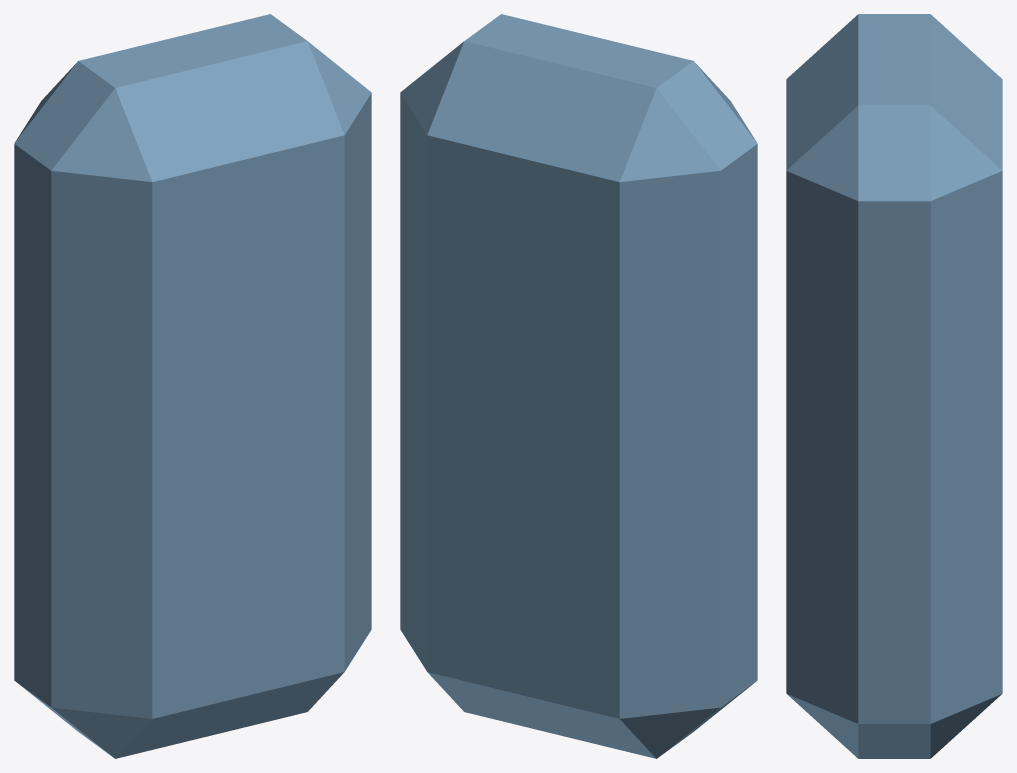
File: hub_stator_segment.glb
3 renders of one model, left to right at view 1: azimuth 30°, elevation 25°; view 2: azimuth 150°, elevation 25°; view 3: azimuth 270°, elevation 25°, orthographic. The views are drawn at different scales.
Visible parts, largest first — view 1: hub_stator_segment; view 2: hub_stator_segment; view 3: hub_stator_segment.
Part boxes in pixels (x1,y1,x2,y2): hub_stator_segment: (14,14,371,758); hub_stator_segment: (400,14,757,758); hub_stator_segment: (786,14,1002,758).
Size of the model in its own units: 0.05 by 0.1 by 0.03.
